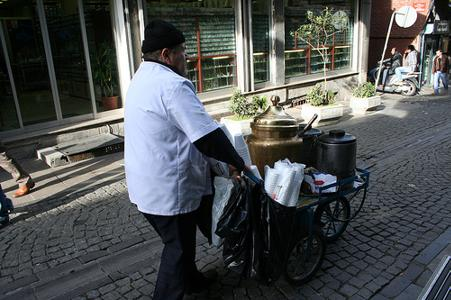person: (122, 22, 256, 300)
